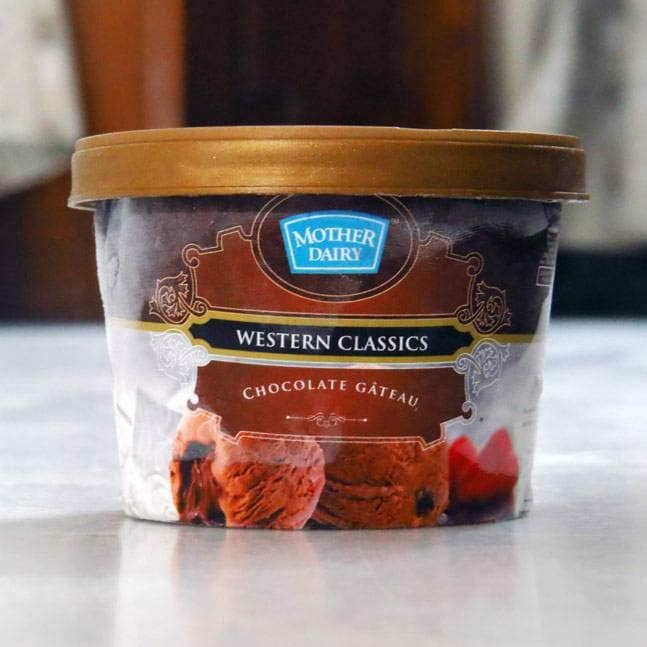Mother_Dairy: (275, 208, 392, 283)
